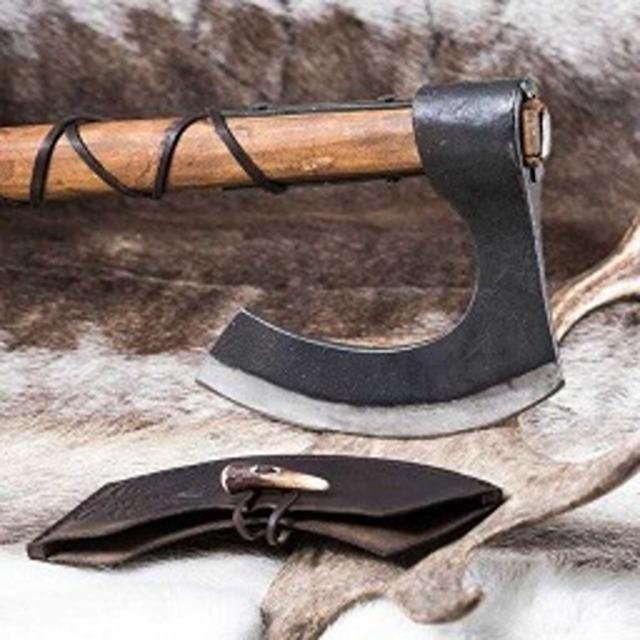ax: (1, 69, 592, 448)
